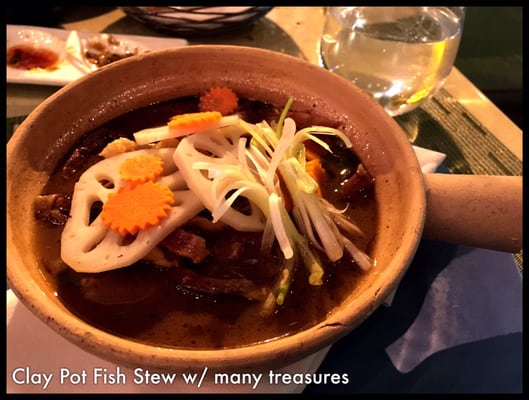pizza: (320, 7, 466, 118)
sushi: (9, 31, 426, 381)
